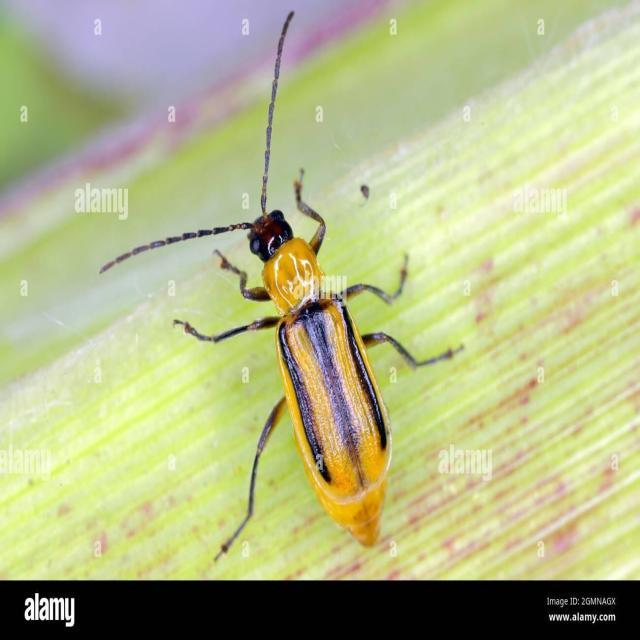trips: (98, 11, 464, 567)
